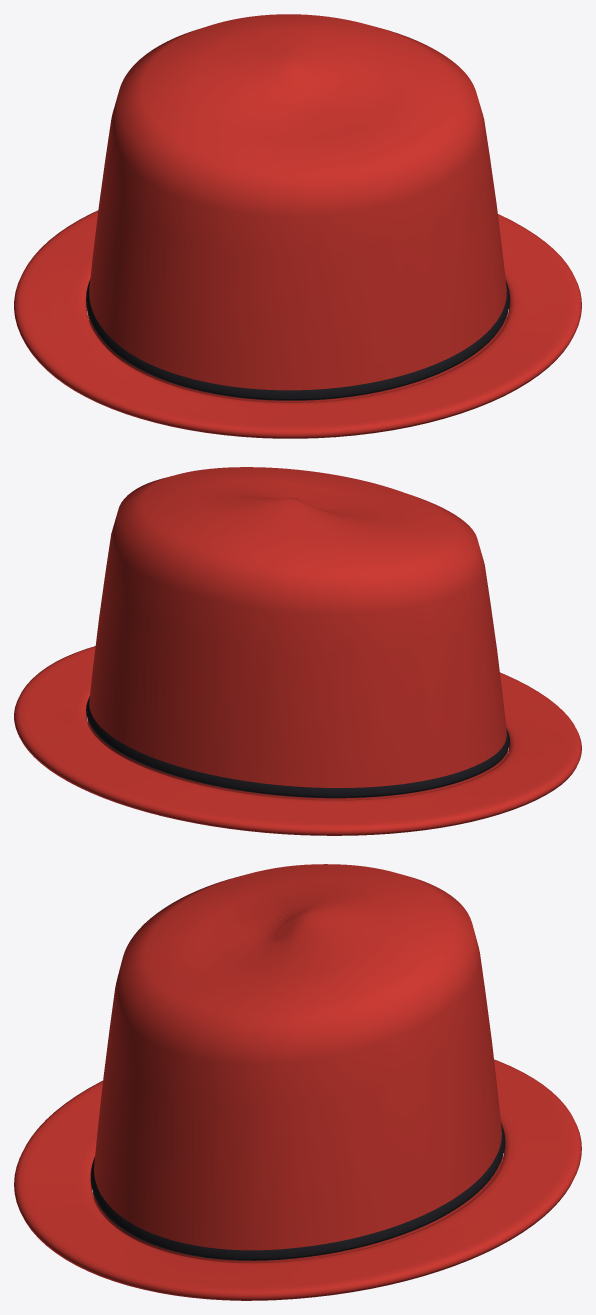
File: hw_welsh.glb
3 renders of one model, top to bottom at view 1: azimuth 30°, elevation 25°; view 2: azimuth 150°, elevation 25°; view 3: azimuth 270°, elevation 25°, orthographic. The views are drawn at different scales.
Visible parts, largest first — view 1: hw_welsh, hw_welsh_brim, hw_welsh_band; view 2: hw_welsh, hw_welsh_brim, hw_welsh_band; view 3: hw_welsh, hw_welsh_brim, hw_welsh_band.
Boxes of the visible parts, left/top/right/bottom form: hw_welsh: left=87, top=14, right=508, bottom=402; hw_welsh_brim: left=14, top=210, right=581, bottom=438; hw_welsh_band: left=86, top=279, right=509, bottom=400; hw_welsh: left=87, top=467, right=508, bottom=800; hw_welsh_brim: left=14, top=646, right=581, bottom=835; hw_welsh_band: left=86, top=696, right=509, bottom=798; hw_welsh: left=92, top=864, right=503, bottom=1262; hw_welsh_brim: left=14, top=1059, right=581, bottom=1300; hw_welsh_band: left=90, top=1123, right=505, bottom=1260.
Bounding box in the file's own units: 1.09 × 0.5425 × 1.01.
